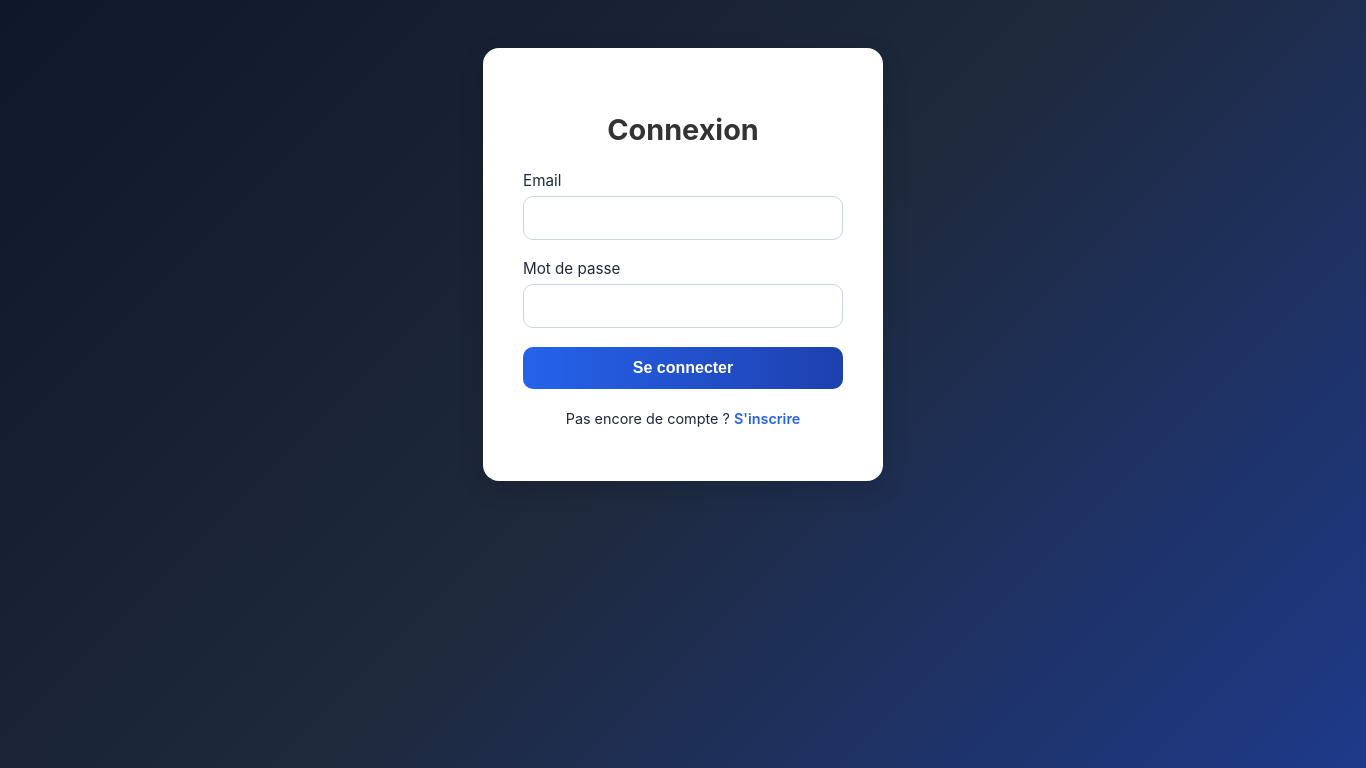
Login Component › gère les erreurs réseau (API inaccessible)
The width and height of the screenshot is (1366, 768).
Type "a@b.com" into the field labelled "Email".
click(683, 218); type("a@b.com")  # box x1=523 y1=196 x2=843 y2=240
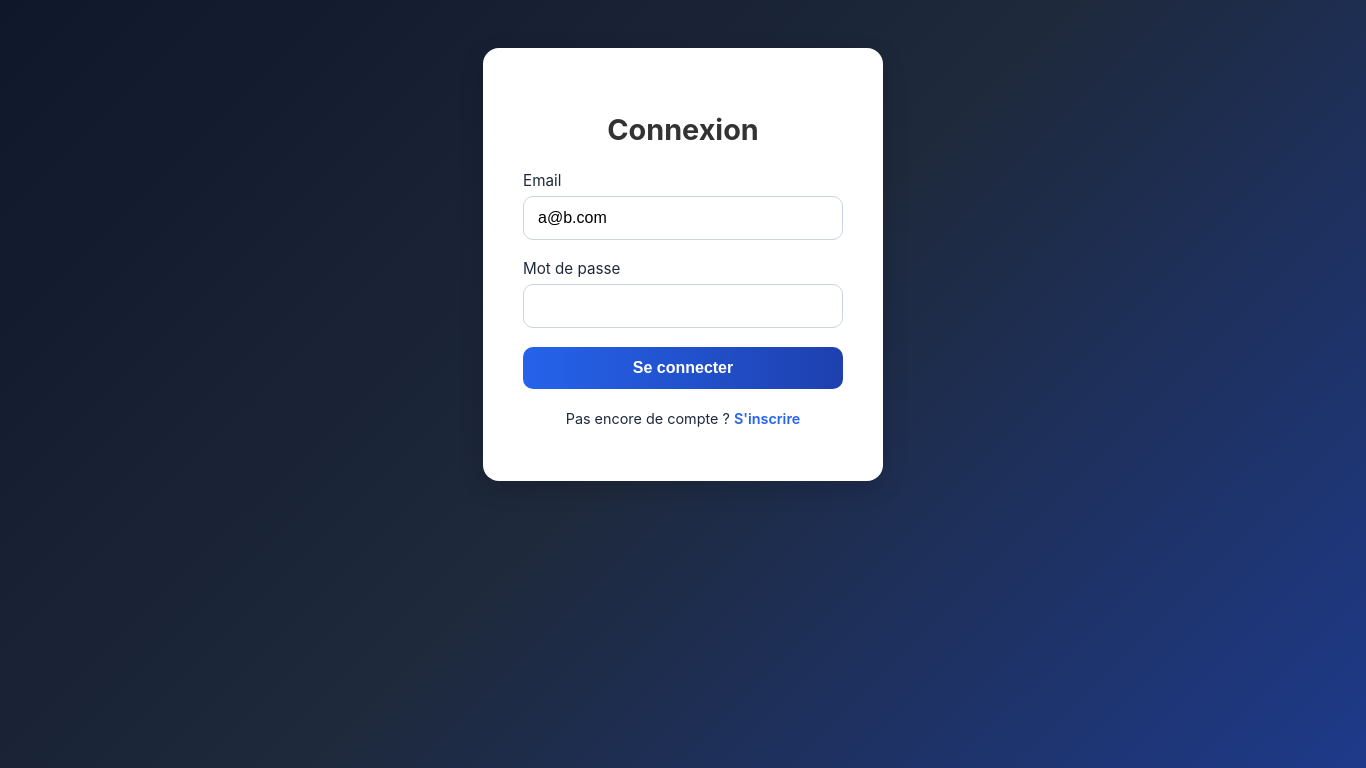
Type "pass" into the password field labelled "Mot de passe".
click(683, 306); type("pass")  # box x1=523 y1=284 x2=843 y2=328
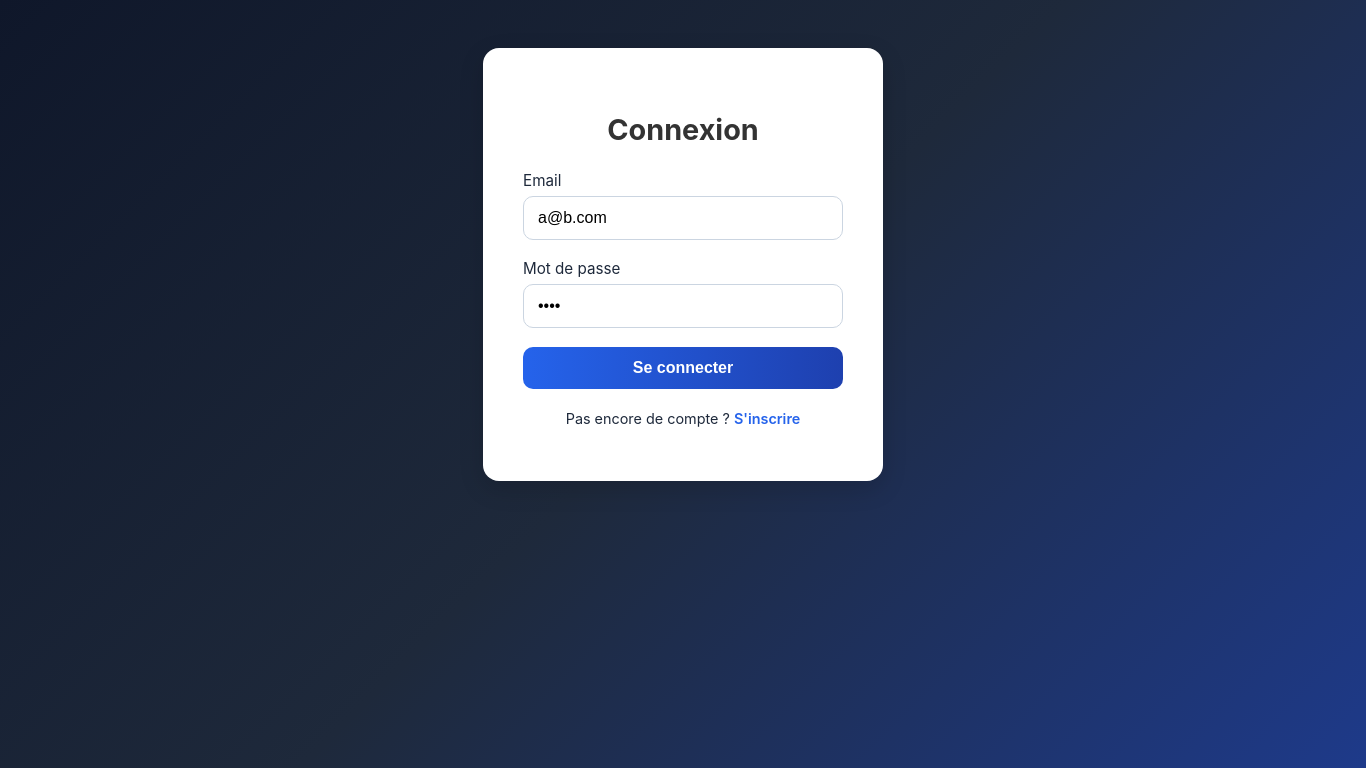
Click the button "Se connecter".
click(683, 368)  # box x1=523 y1=347 x2=843 y2=389
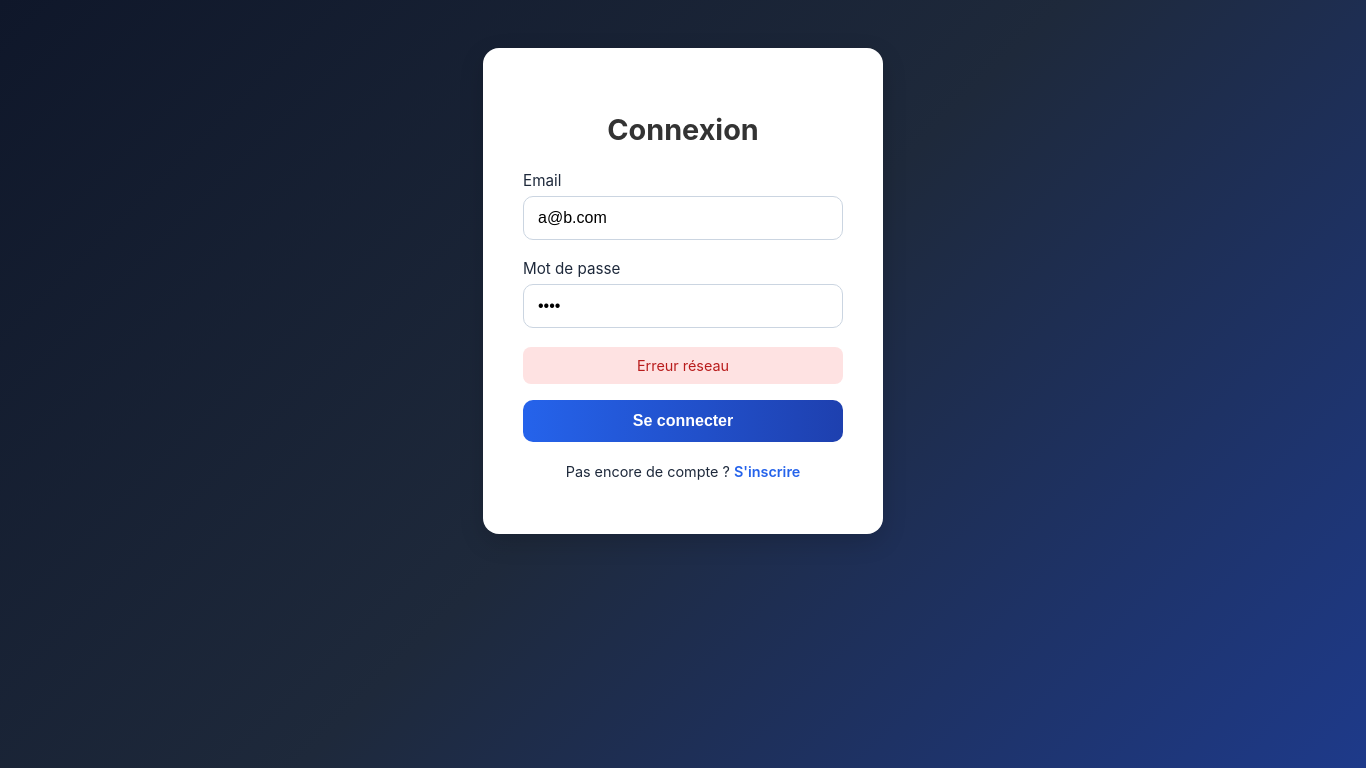
Expected: the button "Se connecter" is enabled, x1=523 y1=400 x2=843 y2=442
Now the text "Erreur réseau" is shown, box x1=523 y1=347 x2=843 y2=384
